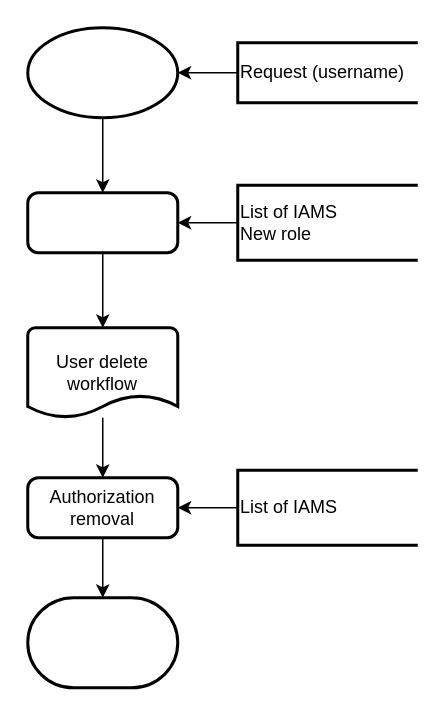
Image size: 444x714. Some labels were removed from this diagram. The box of each missing label's shape, as (x1, y1, x2, y2) in pixels:
Analysis: (26, 190, 178, 254)
Close: (26, 596, 178, 688)
User: (26, 26, 178, 118)
